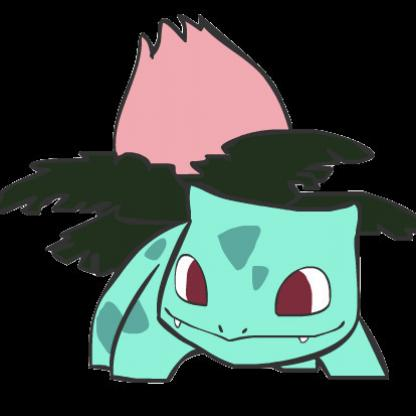Ivysaur: (1, 12, 416, 392)
